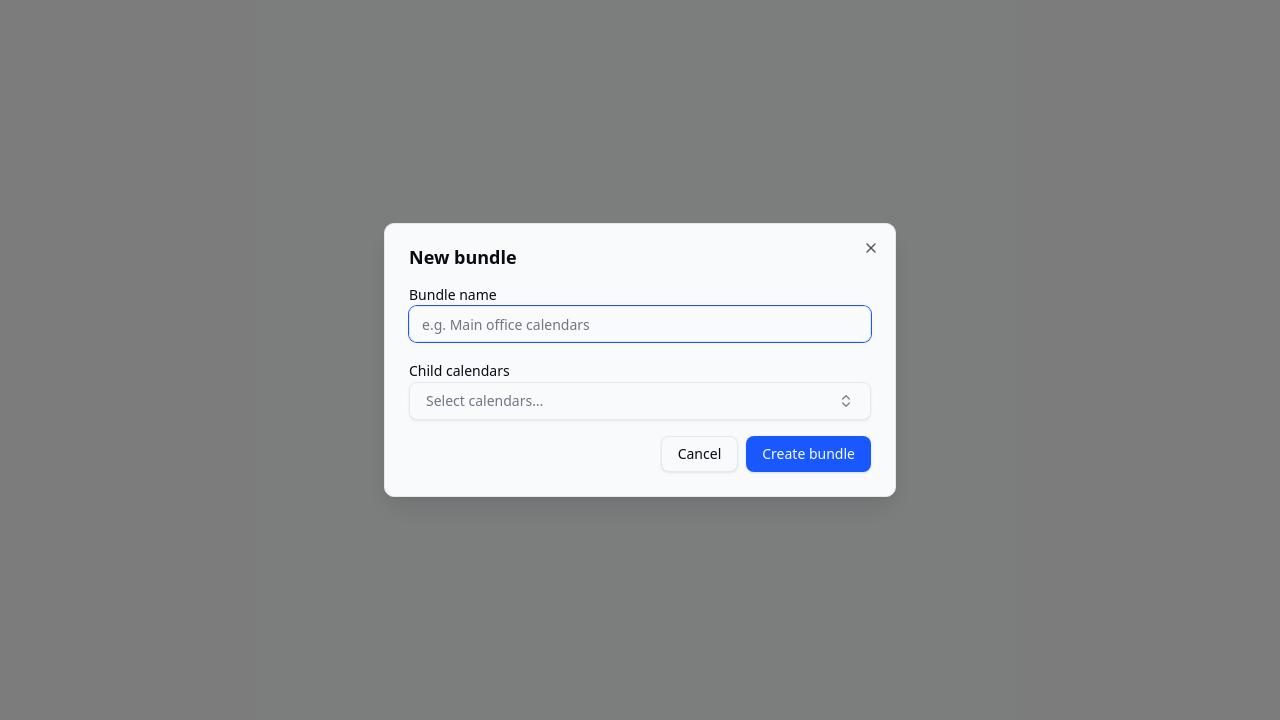
Test: CreateBundleDialog › validates that bundle name is required
Click the button with test id "create-bundle-submit": (809, 454) [746, 436, 871, 472]
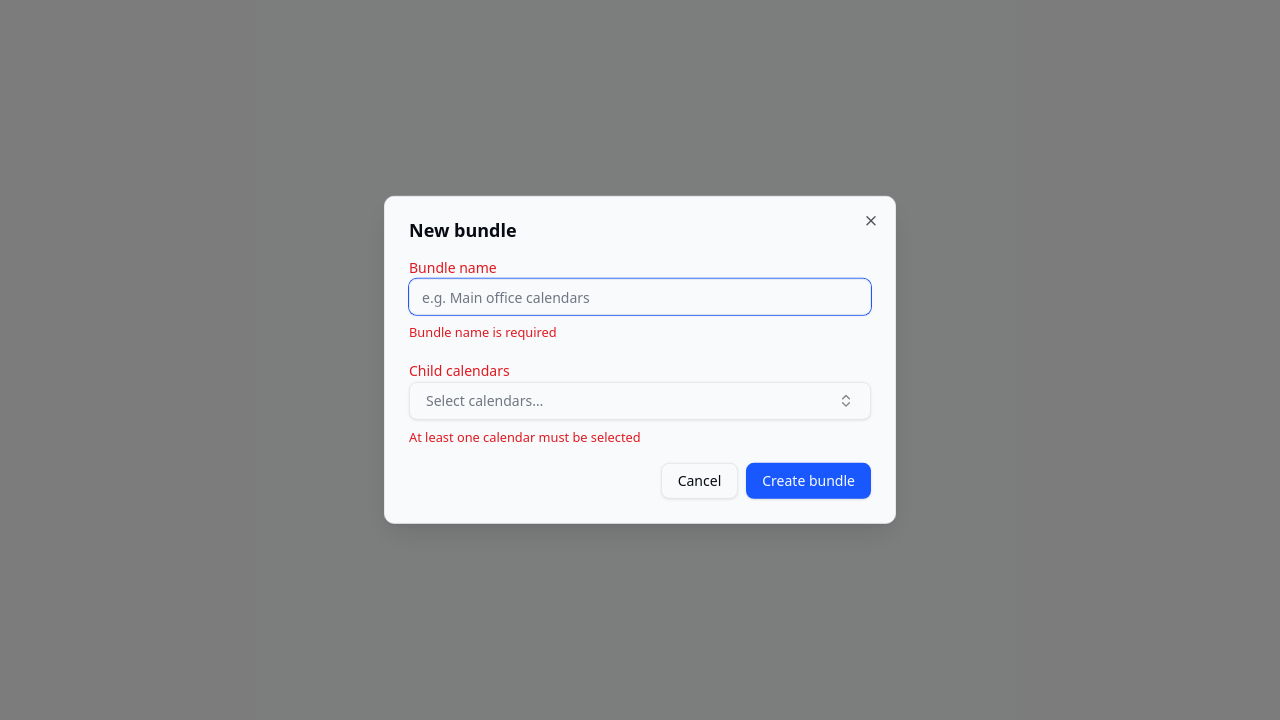
Now the text "Bundle name is required" is shown, box [409, 323, 557, 341]
